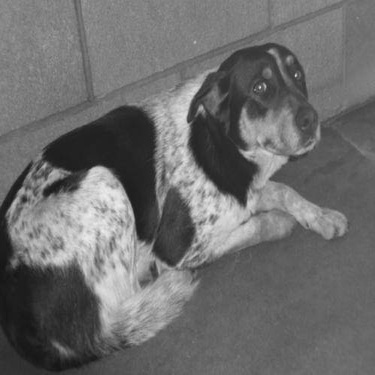dog: (5, 40, 353, 372)
